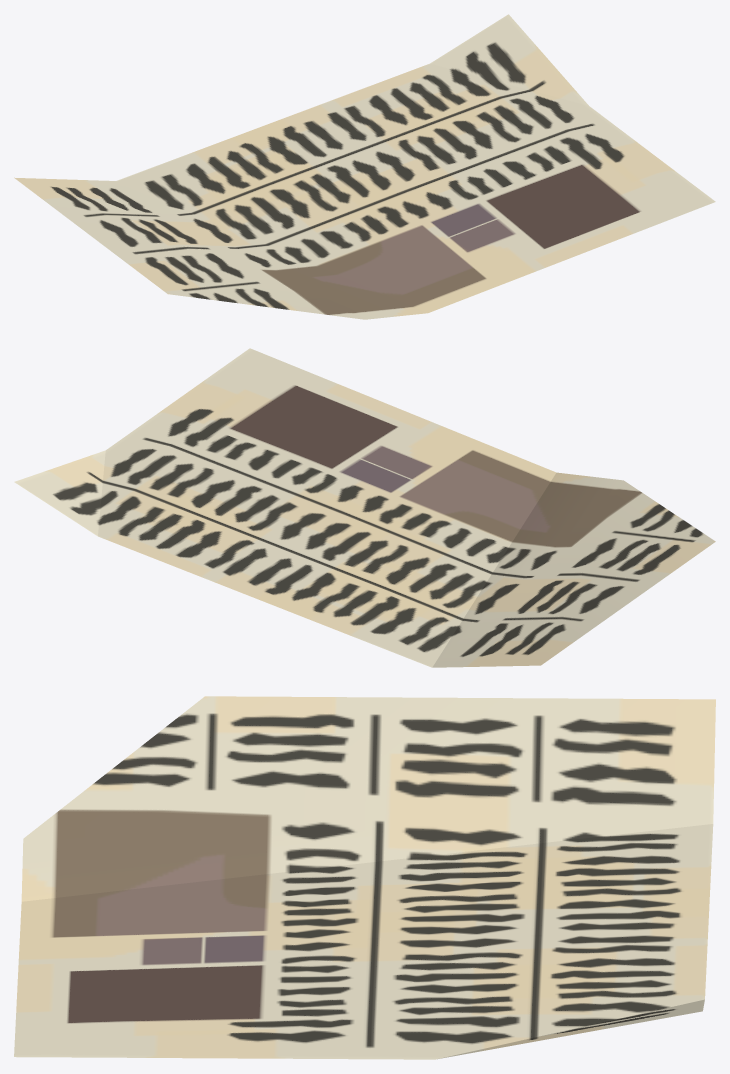
Rendered from SM_FX_Paper_Mesh_04.fbx.
The picture shows the model from 3 angles, top to bottom: view 1: azimuth 30°, elevation 25°; view 2: azimuth 150°, elevation 25°; view 3: azimuth 270°, elevation 25°; orthographic projection. The views are drawn at different scales.
Visible parts, largest first — view 1: SM_FX_Paper_Mesh_04; view 2: SM_FX_Paper_Mesh_04; view 3: SM_FX_Paper_Mesh_04.
Part boxes in pixels (left/top/right/bottom): SM_FX_Paper_Mesh_04: left=14, top=14, right=715, bottom=319; SM_FX_Paper_Mesh_04: left=14, top=348, right=715, bottom=667; SM_FX_Paper_Mesh_04: left=14, top=696, right=715, bottom=1059.
Bounding box in the file's own units: 56.82 × 8.15 × 43.11.
